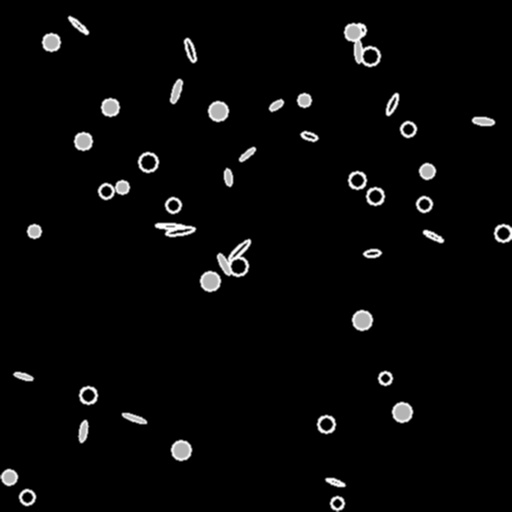pseudomonas: (227, 238, 251, 262), (67, 15, 89, 35), (216, 252, 232, 276), (183, 38, 197, 62), (169, 79, 183, 103), (385, 93, 399, 115), (238, 146, 256, 162), (122, 412, 146, 424), (423, 229, 443, 243), (166, 226, 194, 236), (155, 222, 185, 230), (268, 98, 284, 112), (300, 130, 318, 142), (473, 116, 493, 126), (13, 371, 33, 381), (78, 421, 88, 441), (354, 39, 362, 63), (326, 477, 344, 487), (363, 249, 381, 257), (224, 169, 232, 185)
synechocystis: (361, 47, 379, 65), (229, 257, 247, 275), (353, 311, 371, 329), (139, 153, 157, 171), (393, 403, 411, 421), (209, 102, 227, 120), (172, 441, 190, 459), (201, 272, 219, 290), (80, 387, 96, 403), (495, 225, 511, 241), (367, 188, 383, 204), (349, 172, 365, 188), (43, 34, 59, 50), (75, 133, 91, 149), (345, 24, 361, 40), (318, 416, 334, 432), (102, 99, 118, 115), (420, 164, 434, 178), (99, 184, 113, 198), (417, 197, 431, 211), (2, 470, 16, 484), (166, 198, 180, 212), (401, 122, 415, 136), (20, 490, 34, 504), (298, 94, 310, 106), (116, 181, 128, 193), (379, 372, 391, 384), (353, 24, 365, 36), (28, 225, 40, 237), (331, 497, 343, 509)
